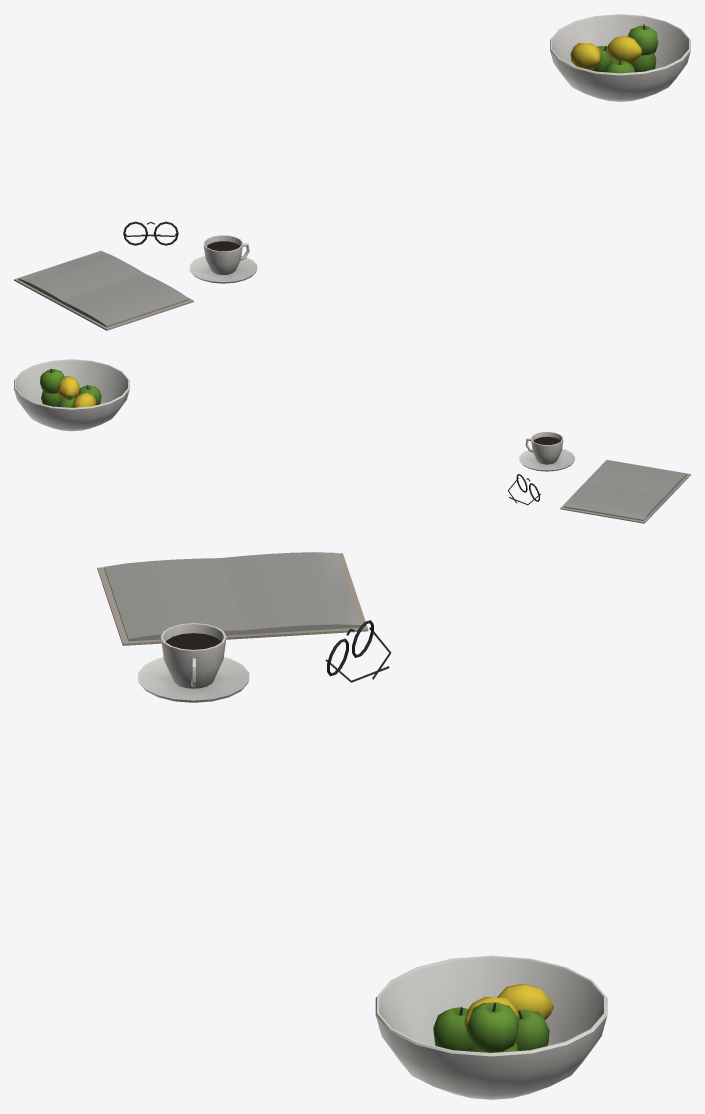
File: decor_b_vignette_breakfast.gltf
The picture shows the model from 3 angles, top to bottom: view 1: azimuth 30°, elevation 25°; view 2: azimuth 150°, elevation 25°; view 3: azimuth 270°, elevation 25°; orthographic projection. The views are drawn at different scales.
Parts seen in each view (by area): view 1: DecorBVignetteBreakfast_Bowl01_CeramicWhite_NoCollide, DecorBVignetteBreakfast_Book01_PaperWhite_NoCollide, DecorBVignetteBreakfast_Cup01_CeramicWhite_NoCollide, DecorBVignetteBreakfast_Book01_LinenOat_NoCollide, DecorBVignetteBreakfast_Lemon01_Lemon_NoCollide, DecorBVignetteBreakfast_Lemon02_Lemon_NoCollide, DecorBVignetteBreakfast_Apple04_Lime_NoCollide; view 2: DecorBVignetteBreakfast_Bowl01_CeramicWhite_NoCollide, DecorBVignetteBreakfast_Book01_PaperWhite_NoCollide, DecorBVignetteBreakfast_Cup01_CeramicWhite_NoCollide, DecorBVignetteBreakfast_Book01_LinenOat_NoCollide, DecorBVignetteBreakfast_Apple04_Lime_NoCollide, DecorBVignetteBreakfast_Lemon01_Lemon_NoCollide, DecorBVignetteBreakfast_Lemon02_Lemon_NoCollide, DecorBVignetteBreakfast_Spectacles01_BlackMetal_NoCollide; view 3: DecorBVignetteBreakfast_Bowl01_CeramicWhite_NoCollide, DecorBVignetteBreakfast_Book01_PaperWhite_NoCollide, DecorBVignetteBreakfast_Cup01_CeramicWhite_NoCollide, DecorBVignetteBreakfast_Apple04_Lime_NoCollide, DecorBVignetteBreakfast_Book01_LinenOat_NoCollide, DecorBVignetteBreakfast_Apple03_Lime_NoCollide, DecorBVignetteBreakfast_Apple02_Lime_NoCollide, DecorBVignetteBreakfast_Lemon02_Lemon_NoCollide, DecorBVignetteBreakfast_Spectacles01_BlackMetal_NoCollide.
Part boxes in pixels (<box>): DecorBVignetteBreakfast_Bowl01_CeramicWhite_NoCollide: <box>550,14,690,101</box>; DecorBVignetteBreakfast_Book01_PaperWhite_NoCollide: <box>18,251,189,327</box>; DecorBVignetteBreakfast_Cup01_CeramicWhite_NoCollide: <box>189,235,257,283</box>; DecorBVignetteBreakfast_Book01_LinenOat_NoCollide: <box>14,250,193,330</box>; DecorBVignetteBreakfast_Lemon01_Lemon_NoCollide: <box>607,36,641,62</box>; DecorBVignetteBreakfast_Lemon02_Lemon_NoCollide: <box>570,43,601,69</box>; DecorBVignetteBreakfast_Apple04_Lime_NoCollide: <box>628,25,658,55</box>; DecorBVignetteBreakfast_Bowl01_CeramicWhite_NoCollide: <box>14,359,129,431</box>; DecorBVignetteBreakfast_Book01_PaperWhite_NoCollide: <box>563,460,687,520</box>; DecorBVignetteBreakfast_Cup01_CeramicWhite_NoCollide: <box>519,431,574,471</box>; DecorBVignetteBreakfast_Book01_LinenOat_NoCollide: <box>560,460,690,523</box>; DecorBVignetteBreakfast_Apple04_Lime_NoCollide: <box>40,369,64,393</box>; DecorBVignetteBreakfast_Lemon01_Lemon_NoCollide: <box>57,376,79,399</box>; DecorBVignetteBreakfast_Lemon02_Lemon_NoCollide: <box>72,393,96,407</box>; DecorBVignetteBreakfast_Spectacles01_BlackMetal_NoCollide: <box>508,474,540,505</box>; DecorBVignetteBreakfast_Bowl01_CeramicWhite_NoCollide: <box>375,955,607,1099</box>; DecorBVignetteBreakfast_Book01_PaperWhite_NoCollide: <box>104,552,361,641</box>; DecorBVignetteBreakfast_Cup01_CeramicWhite_NoCollide: <box>138,623,249,702</box>; DecorBVignetteBreakfast_Apple04_Lime_NoCollide: <box>466,1002,519,1052</box>; DecorBVignetteBreakfast_Book01_LinenOat_NoCollide: <box>97,553,368,645</box>; DecorBVignetteBreakfast_Apple03_Lime_NoCollide: <box>433,1007,471,1051</box>; DecorBVignetteBreakfast_Apple02_Lime_NoCollide: <box>515,1009,549,1050</box>; DecorBVignetteBreakfast_Lemon02_Lemon_NoCollide: <box>497,983,553,1020</box>; DecorBVignetteBreakfast_Spectacles01_BlackMetal_NoCollide: <box>325,620,391,682</box>.
Size of the model in its own units: 1.73 by 0.1327 by 0.6503.
Materials: 8 (1 with a texture image).
